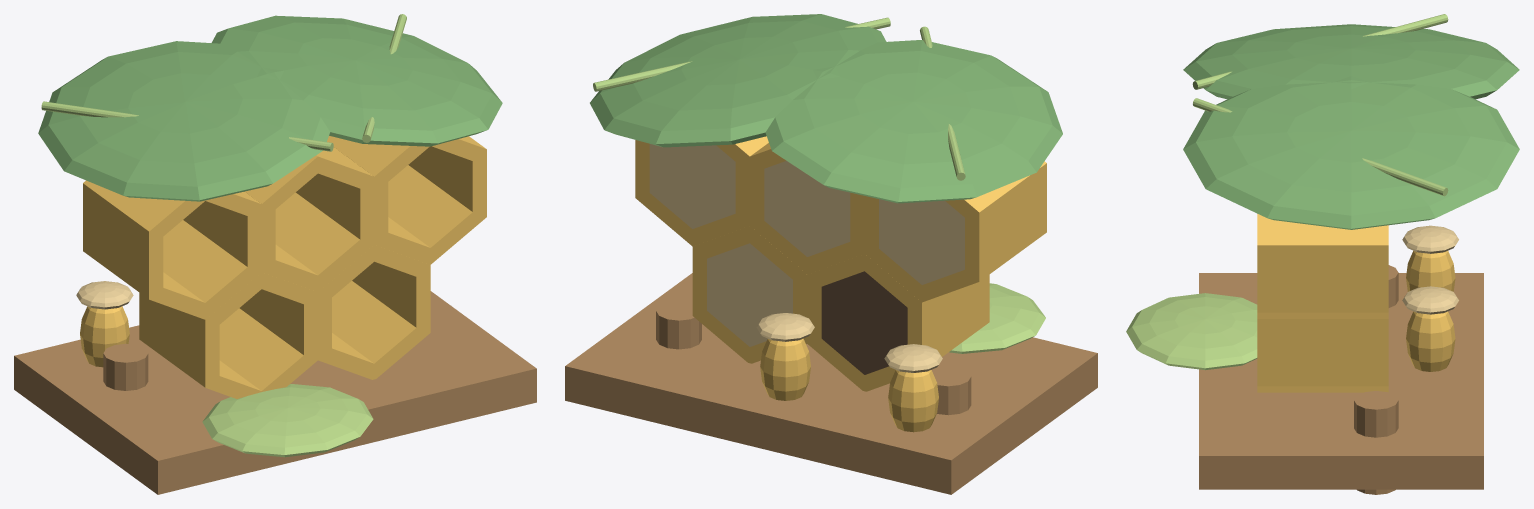
File: BeeHoneycombHome2.fbx
3 renders of one model, left to right at view 1: azimuth 30°, elevation 25°; view 2: azimuth 150°, elevation 25°; view 3: azimuth 270°, elevation 25°, orthographic. The views are drawn at different scales.
Parts seen in each view (by area): view 1: Timber landing deck.001, Overlapping roof leaf.002, Overlapping roof leaf.003, Hexagonal wax room.006, Hexagonal wax room.004, Hexagonal wax room.007, Hexagonal wax room.003, Hexagonal wax room.005, Entrance landing leaf.001, Honey jar.001, Raised hive foot.002, Honey jar lid.001 (+2 smaller); view 2: Timber landing deck.001, Overlapping roof leaf.002, Overlapping roof leaf.003, Hexagonal wax room.006, Hexagonal wax room.004, Recessed chamber.004, Recessed chamber.005, Recessed chamber.007, Recessed chamber.003, Recessed chamber.006, Hexagonal wax room.005, Hexagonal wax room.007 (+10 smaller); view 3: Overlapping roof leaf.003, Timber landing deck.001, Overlapping roof leaf.002, Hexagonal wax room.007, Hexagonal wax room.005, Entrance landing leaf.001, Honey jar.002, Raised hive foot.003, Honey jar.001, Honey jar lid.002, Honey jar lid.001, Roof leaf vein.003 (+1 smaller).
Boxes of the visible parts, x1,y1,x2,y2 form: Timber landing deck.001: [14, 291, 536, 494]; Overlapping roof leaf.002: [38, 41, 329, 201]; Overlapping roof leaf.003: [211, 15, 502, 146]; Hexagonal wax room.006: [83, 180, 261, 319]; Hexagonal wax room.004: [139, 272, 317, 398]; Hexagonal wax room.007: [327, 136, 486, 264]; Hexagonal wax room.003: [245, 147, 374, 292]; Hexagonal wax room.005: [318, 244, 430, 379]; Entrance landing leaf.001: [202, 384, 373, 457]; Honey jar.001: [80, 306, 129, 367]; Raised hive foot.002: [103, 343, 148, 390]; Honey jar lid.001: [76, 281, 133, 309]; Timber landing deck.001: [565, 273, 1097, 494]; Overlapping roof leaf.002: [765, 40, 1062, 203]; Overlapping roof leaf.003: [590, 14, 886, 147]; Hexagonal wax room.006: [864, 161, 1046, 302]; Hexagonal wax room.004: [807, 254, 989, 391]; Recessed chamber.004: [821, 271, 907, 374]; Recessed chamber.005: [707, 243, 792, 346]; Recessed chamber.007: [649, 144, 735, 228]; Recessed chamber.003: [764, 161, 850, 256]; Recessed chamber.006: [879, 199, 964, 284]; Hexagonal wax room.005: [692, 226, 807, 363]; Hexagonal wax room.007: [635, 136, 768, 246]; Overlapping roof leaf.003: [1183, 76, 1519, 229]; Timber landing deck.001: [1199, 273, 1483, 489]; Overlapping roof leaf.002: [1183, 24, 1519, 99]; Hexagonal wax room.007: [1257, 214, 1388, 318]; Hexagonal wax room.005: [1257, 319, 1388, 392]; Entrance landing leaf.001: [1126, 293, 1257, 370]; Honey jar.002: [1406, 311, 1455, 371]; Raised hive foot.003: [1354, 391, 1398, 494]; Honey jar.001: [1406, 250, 1455, 291]; Honey jar lid.002: [1402, 286, 1458, 314]; Honey jar lid.001: [1402, 225, 1458, 253]; Roof leaf vein.003: [1193, 98, 1448, 196].
Bounding box in the file's own units: 191 × 151 × 159.
